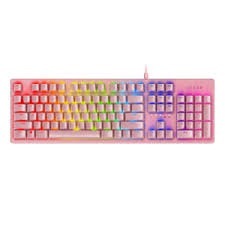keyboard: (7, 75, 225, 147)
